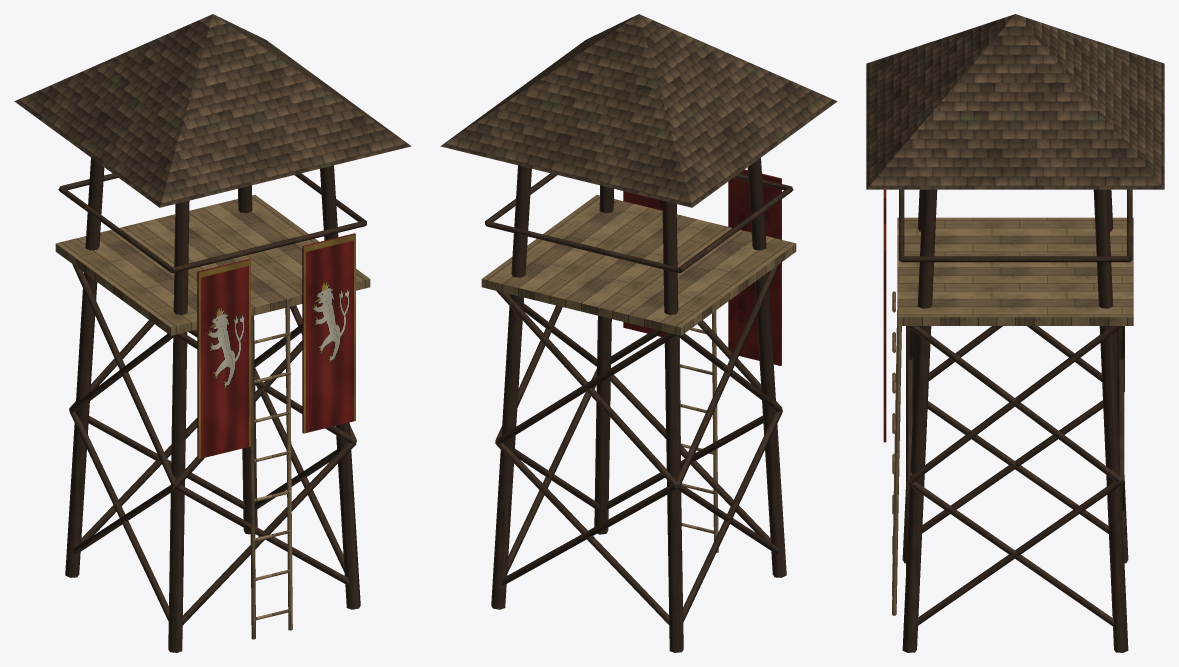
Rendered from watchtower_wood.gltf.
3 renders of one model, left to right at view 1: azimuth 30°, elevation 25°; view 2: azimuth 150°, elevation 25°; view 3: azimuth 270°, elevation 25°, orthographic. The views are drawn at different scales.
Parts seen in each view (by area): view 1: watchtower_wood_mesh; view 2: watchtower_wood_mesh; view 3: watchtower_wood_mesh.
Part boxes in pixels (x1,y1,x2,y2): watchtower_wood_mesh: (14, 14, 411, 652); watchtower_wood_mesh: (440, 14, 837, 652); watchtower_wood_mesh: (866, 14, 1164, 652).
Size of what is drawn, in the model's own units: 4.8 by 10.51 by 4.8.
Materials: 5 (5 with a texture image).
